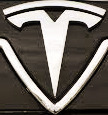Tesla: (1, 1, 108, 114)
